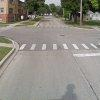Crosswalk: (17, 35, 99, 60)
